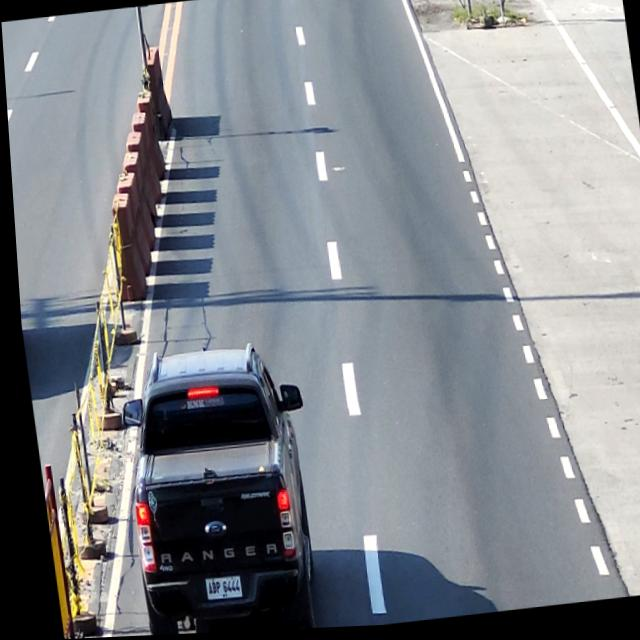Car: (108, 337, 324, 637)
License-Plate: (197, 575, 234, 602)
